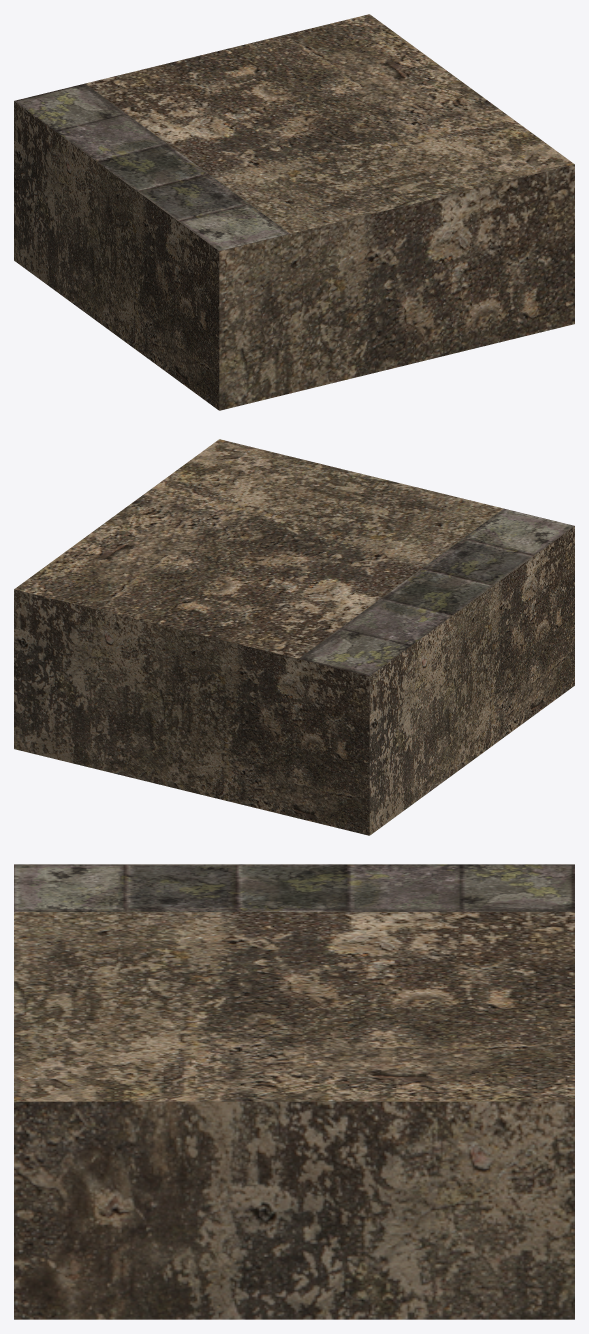
File: materials_5_floor_rectangle_0.fbx
3 views of the same model, one above another, from view 1: azimuth 30°, elevation 25°; view 2: azimuth 150°, elevation 25°; view 3: azimuth 270°, elevation 25° (orthographic). The views are drawn at different scales.
Parts seen in each view (by area): view 1: materials_5_floor_rectangle_0; view 2: materials_5_floor_rectangle_0; view 3: materials_5_floor_rectangle_0.
Part boxes in pixels (x1,y1,x2,y2): materials_5_floor_rectangle_0: (14,14,574,410); materials_5_floor_rectangle_0: (14,439,574,835); materials_5_floor_rectangle_0: (14,864,574,1319).
Bounding box in the file's own units: 100 × 42.89 × 100.
